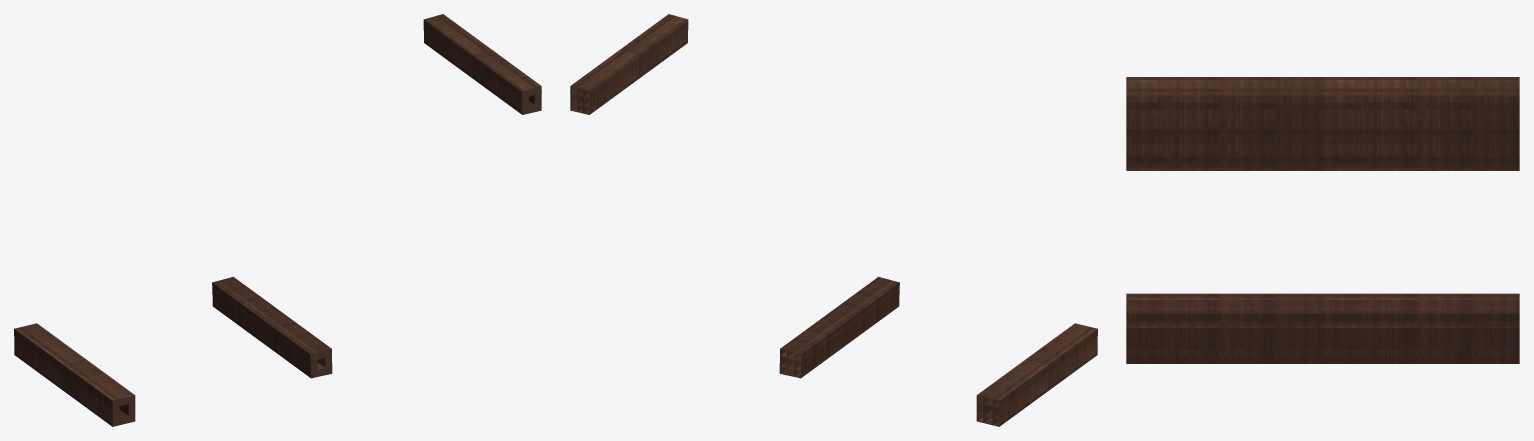
Rendered from wall_2.obj.
The picture shows the model from 3 angles, left to right: view 1: azimuth 30°, elevation 25°; view 2: azimuth 150°, elevation 25°; view 3: azimuth 270°, elevation 25°; orthographic projection. The views are drawn at different scales.
Visible parts, largest first — view 1: walls; view 2: walls; view 3: walls.
Boxes of the visible parts, x1=… form: walls: x1=14, y1=14, x2=541, y2=426; walls: x1=570, y1=14, x2=1097, y2=426; walls: x1=1126, y1=77, x2=1519, y2=363.
Size of the model in its own units: 6.3 by 3.32 by 2.5.
1 material, 1 textured.
